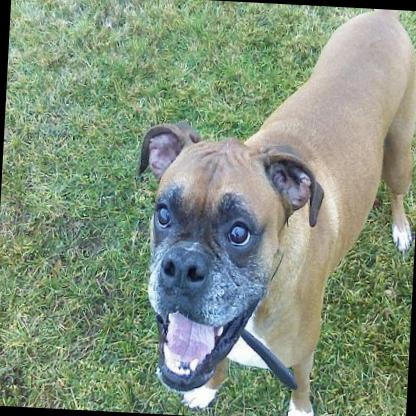boxer: (123, 0, 416, 416)
